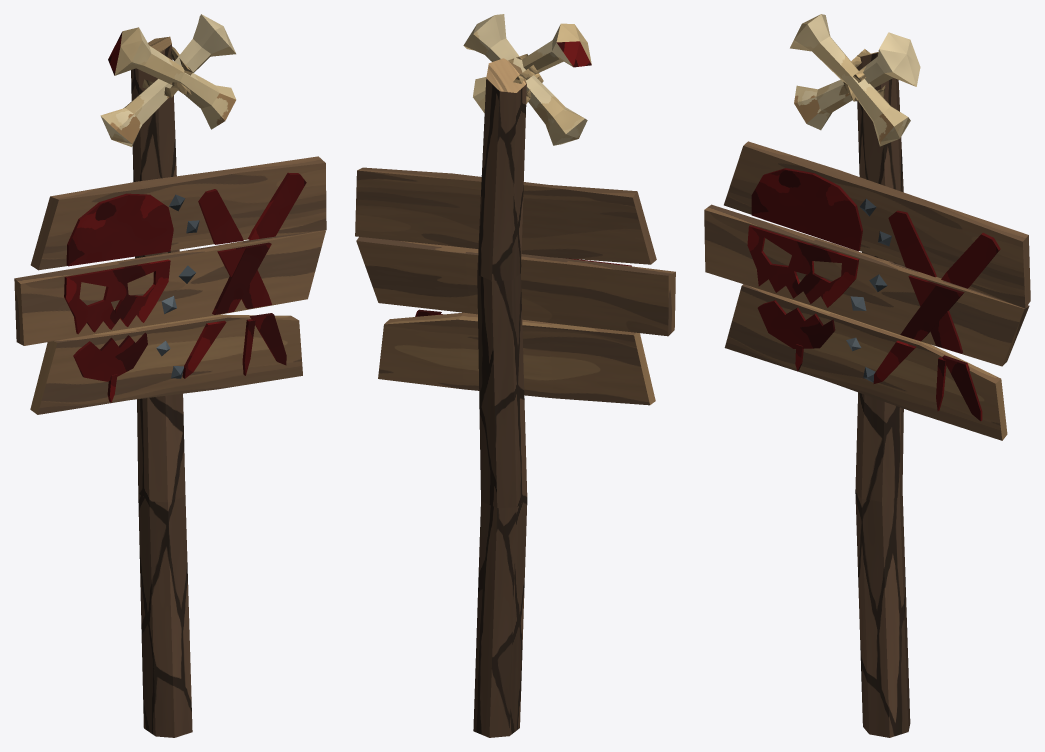
The model's file is SM_WarningSign.fbx.
3 renders of one model, left to right at view 1: azimuth 30°, elevation 25°; view 2: azimuth 150°, elevation 25°; view 3: azimuth 330°, elevation 25°, orthographic. The views are drawn at different scales.
Parts seen in each view (by area): view 1: SM_WarningSign; view 2: SM_WarningSign; view 3: SM_WarningSign.
Boxes of the visible parts, <box> form: SM_WarningSign: <box>14,14,326,737</box>; SM_WarningSign: <box>355,14,675,737</box>; SM_WarningSign: <box>704,14,1030,737</box>.
Size of the model in its own units: 0.8083 by 1.77 by 0.2055.
